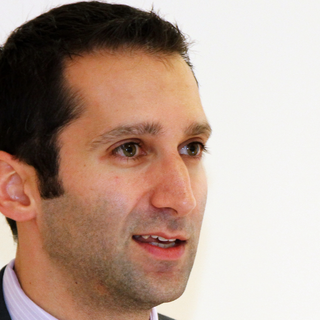eye: (104, 136, 151, 164), (174, 133, 213, 161)
